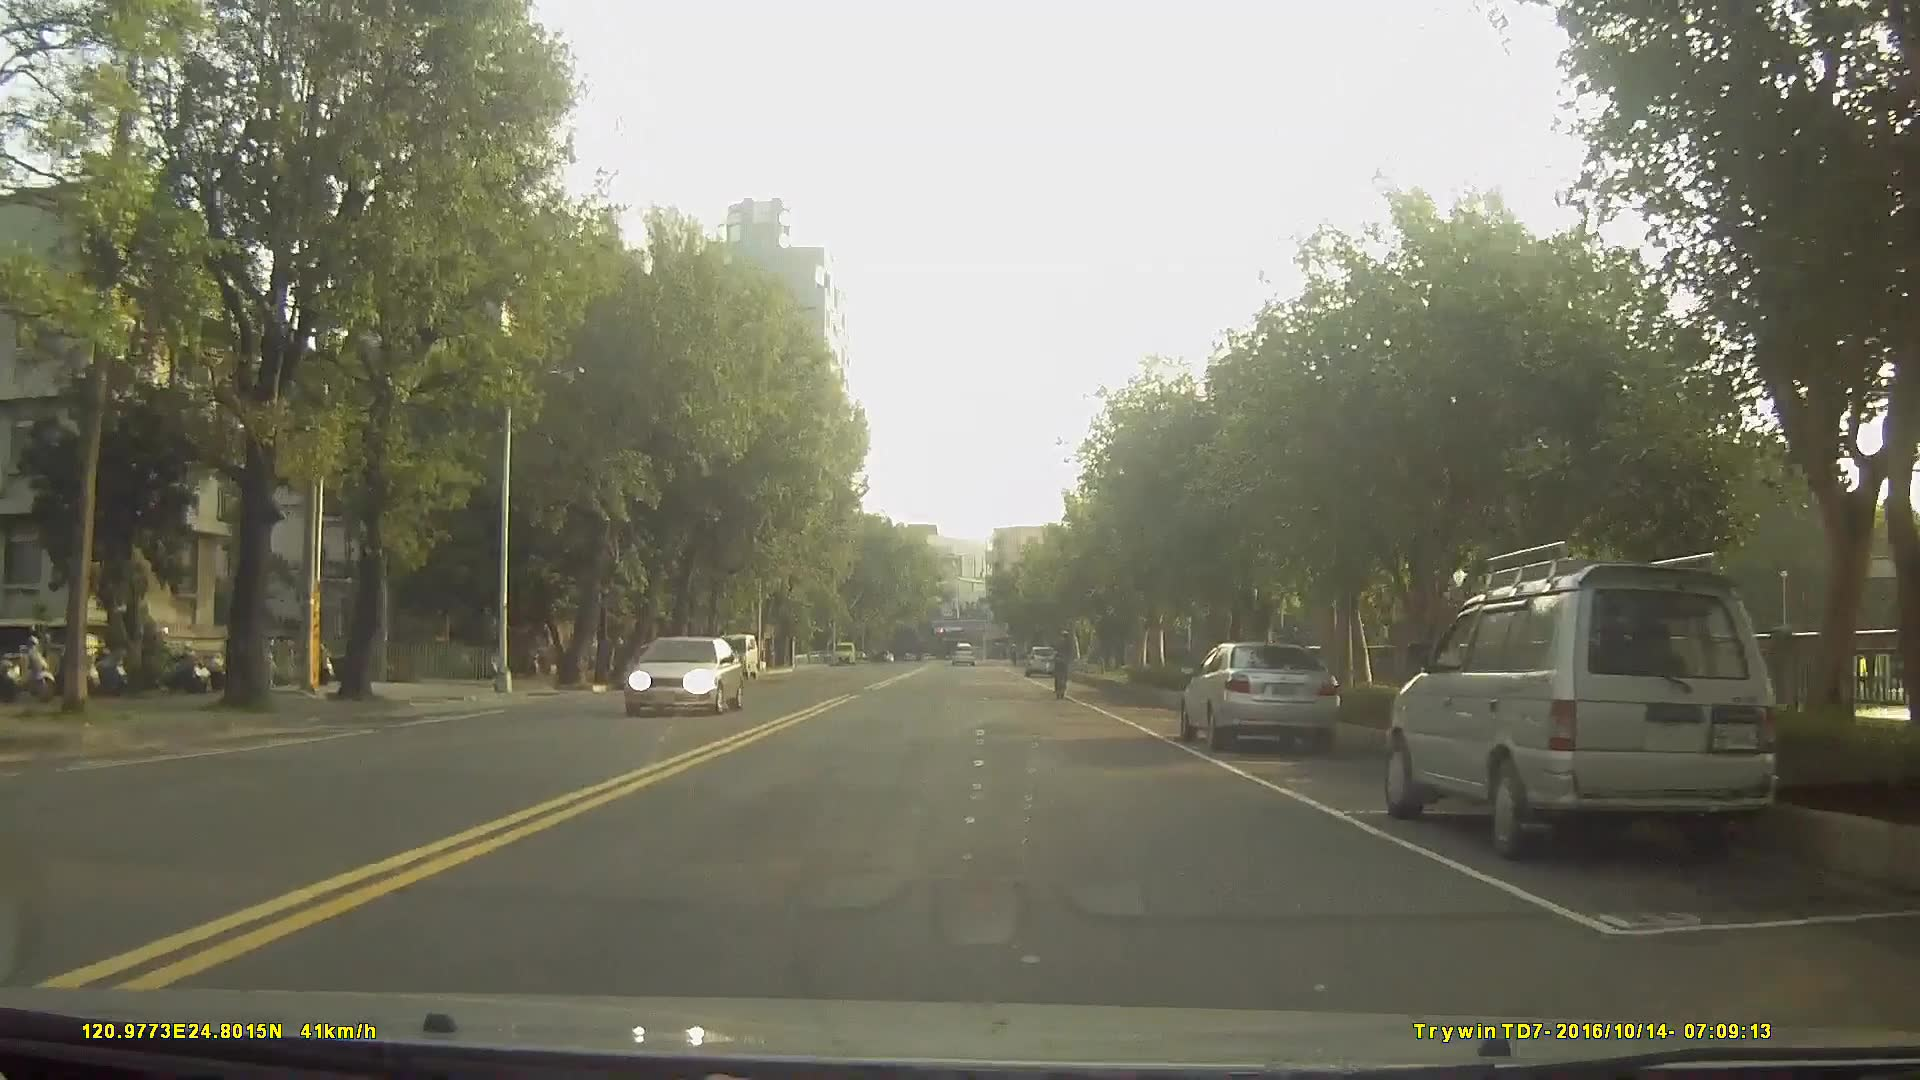rider: (1052, 621, 1077, 701)
vehicle: (1381, 557, 1784, 862), (1179, 635, 1340, 747), (621, 634, 745, 715), (625, 637, 690, 686), (709, 631, 759, 679), (1023, 641, 1059, 677), (948, 636, 976, 664)
